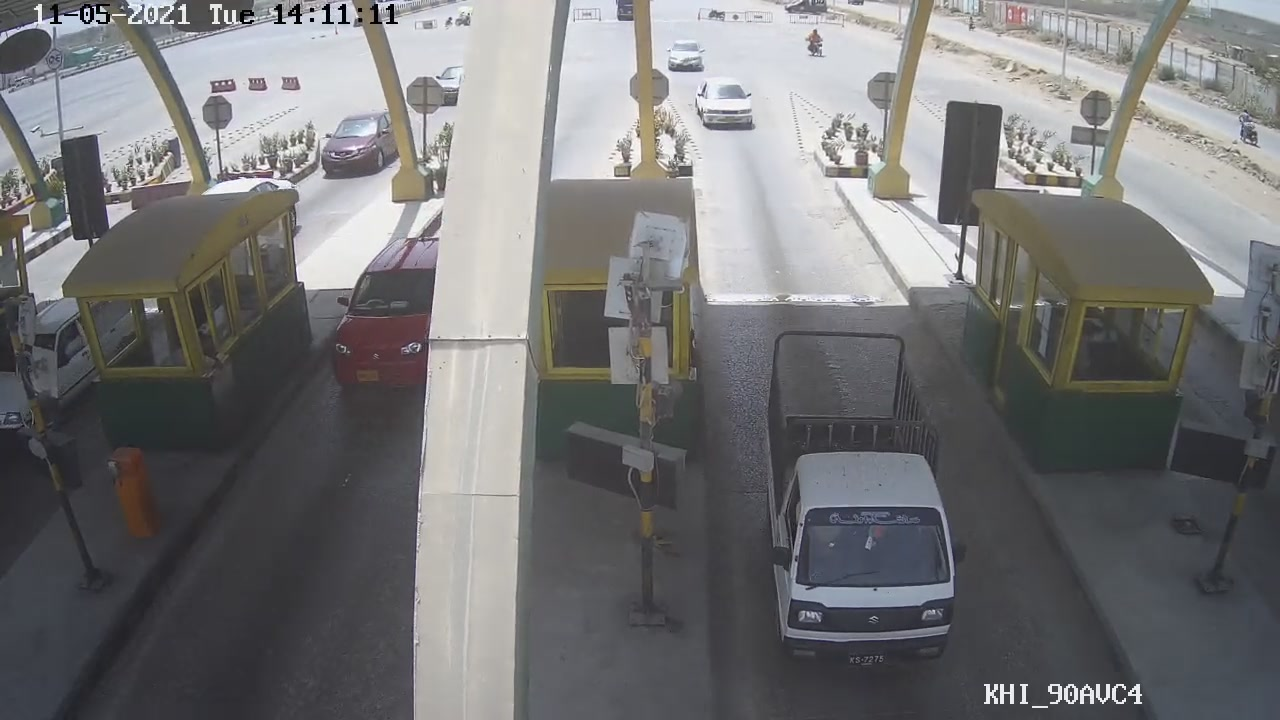F1: (759, 320, 967, 668)
